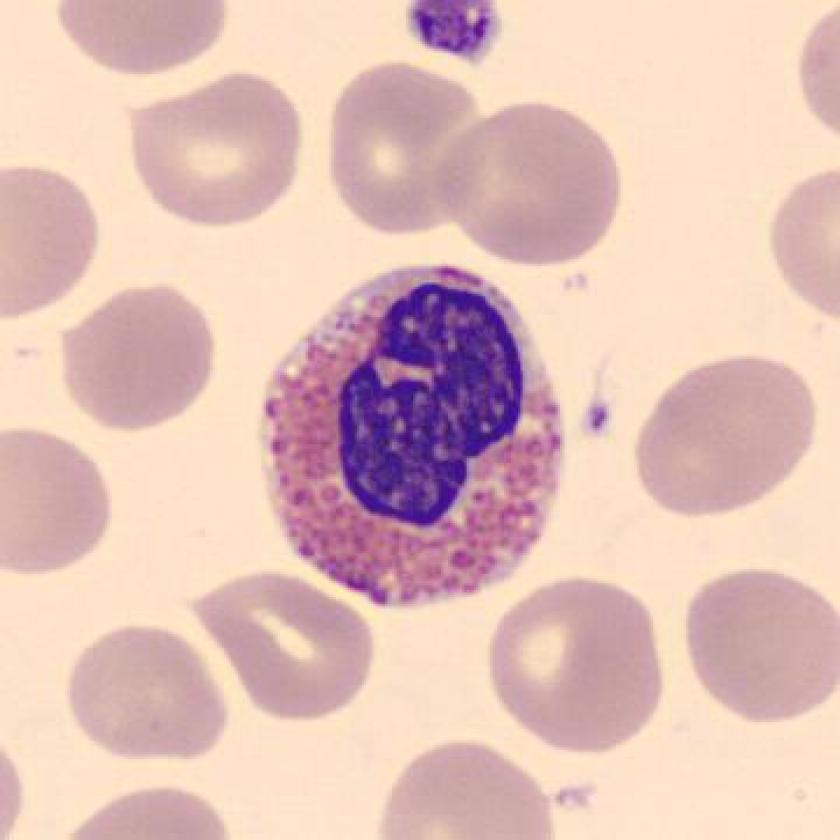eosinophil: (244, 253, 584, 617)
